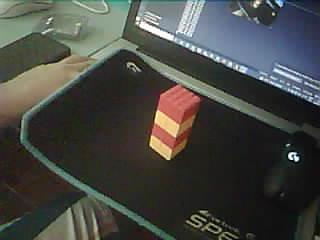lego: (149, 84, 202, 161)
